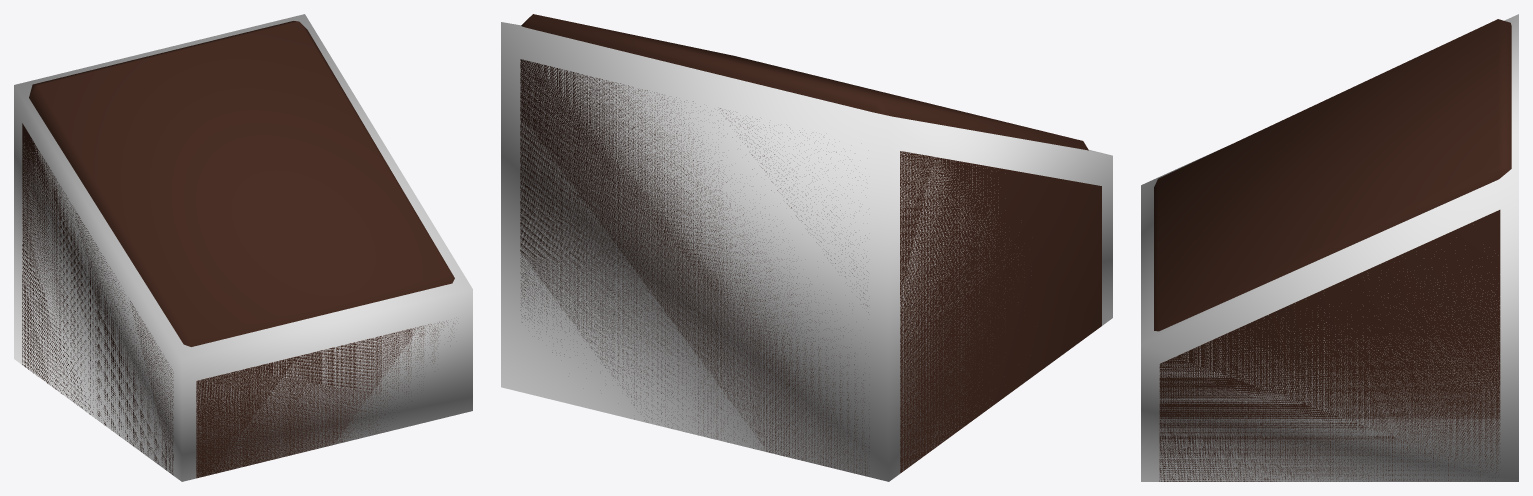
File: dirt_ramp.glb
3 renders of one model, left to right at view 1: azimuth 30°, elevation 25°; view 2: azimuth 150°, elevation 25°; view 3: azimuth 270°, elevation 25°, orthographic. The views are drawn at different scales.
Visible parts, largest first — view 1: dirt_ramp, dirt_ramp_phy; view 2: dirt_ramp_phy, dirt_ramp; view 3: dirt_ramp, dirt_ramp_phy.
Part boxes in pixels (x1,y1,x2,y2): dirt_ramp: (22,21,454,478); dirt_ramp_phy: (14,14,472,481); dirt_ramp_phy: (501,22,1112,481); dirt_ramp: (520,14,1101,475); dirt_ramp: (1154,19,1511,481); dirt_ramp_phy: (1141,14,1518,481).
Size of the model in its own units: 1 by 0.909 by 1.
